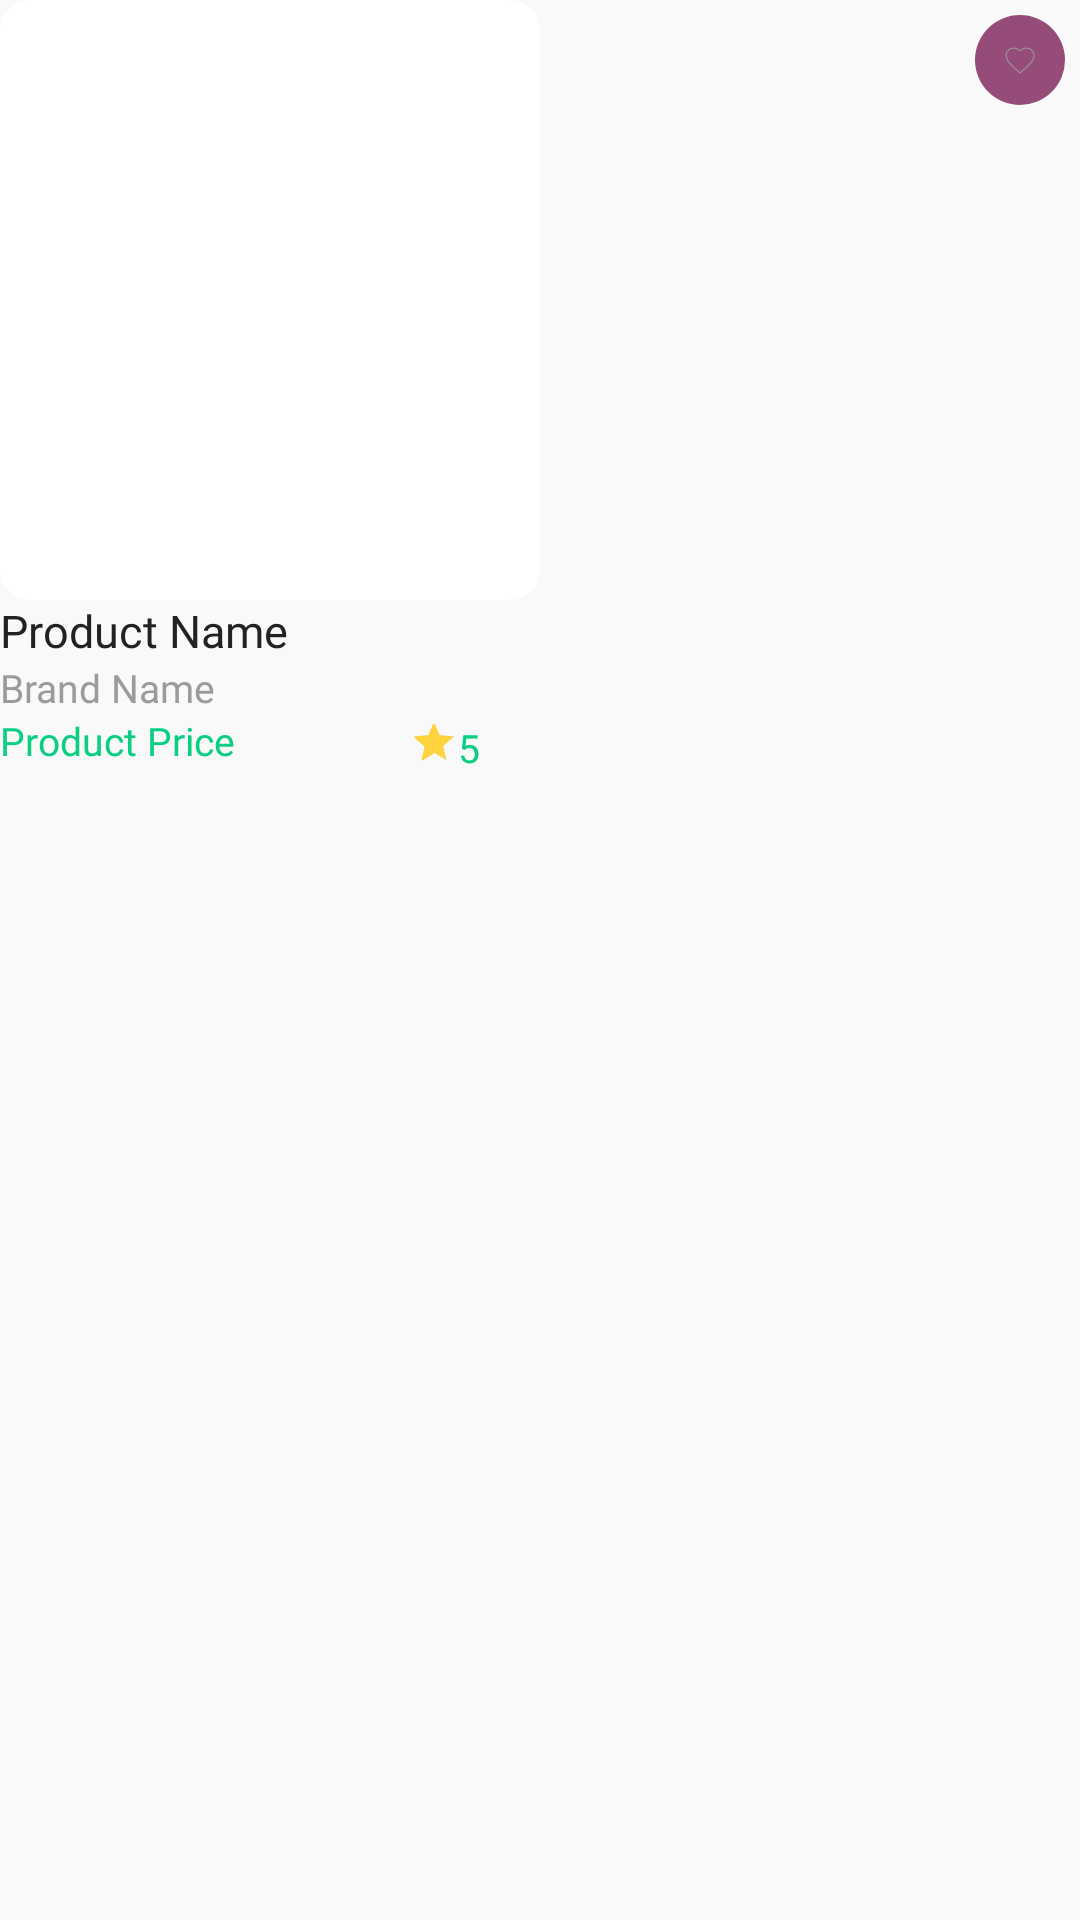

Where icons sit on this 1080×1920 app screen, as (x1, y1, x2, y2):
fav: (975, 15, 1065, 105)
